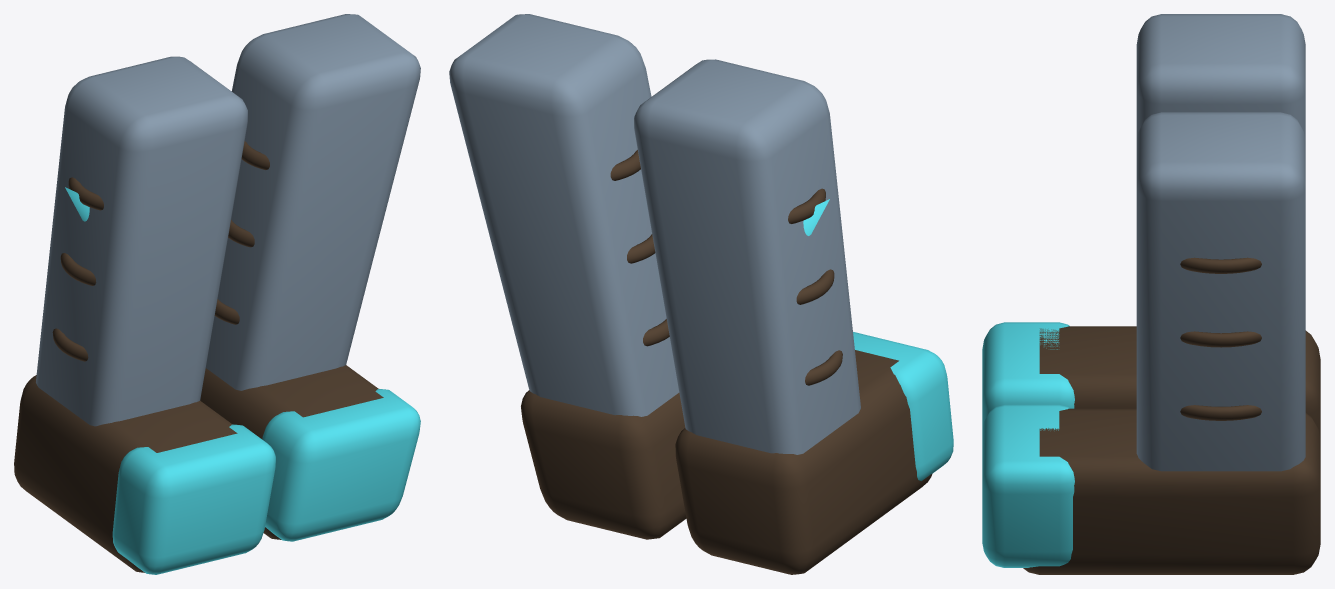
Rendered from boots_v4.glb.
3 renders of one model, left to right at view 1: azimuth 30°, elevation 25°; view 2: azimuth 150°, elevation 25°; view 3: azimuth 270°, elevation 25°, orthographic. The views are drawn at different scales.
Visible parts, largest first — view 1: BOOT_ANKLE_PRIMARY, BOOT_ANKLE_PRIMARY.001, TOE_CAP_ACCENT, TOE_CAP_ACCENT.001, BOOT_FOOT_SECONDARY, BOOT_FOOT_SECONDARY.001, BOOT_STRAP_SECONDARY.001, BOOT_STRAP_SECONDARY, BOOT_STRAP_SECONDARY.002; view 2: BOOT_ANKLE_PRIMARY, BOOT_ANKLE_PRIMARY.001, BOOT_FOOT_SECONDARY, BOOT_FOOT_SECONDARY.001, TOE_CAP_ACCENT, BOOT_STRAP_SECONDARY.001, BOOT_STRAP_SECONDARY; view 3: BOOT_ANKLE_PRIMARY.001, BOOT_FOOT_SECONDARY.001, BOOT_ANKLE_PRIMARY, TOE_CAP_ACCENT.001, BOOT_FOOT_SECONDARY, TOE_CAP_ACCENT, BOOT_STRAP_SECONDARY.005, BOOT_STRAP_SECONDARY.004, BOOT_STRAP_SECONDARY.003.
Boxes of the visible parts, left/top/right/bottom form: BOOT_ANKLE_PRIMARY: left=36, top=56, right=247, bottom=426; BOOT_ANKLE_PRIMARY.001: left=205, top=14, right=420, bottom=390; TOE_CAP_ACCENT: left=112, top=424, right=275, bottom=574; TOE_CAP_ACCENT.001: left=262, top=389, right=420, bottom=541; BOOT_FOOT_SECONDARY: left=14, top=375, right=237, bottom=572; BOOT_FOOT_SECONDARY.001: left=200, top=365, right=383, bottom=539; BOOT_STRAP_SECONDARY.001: left=60, top=253, right=96, bottom=285; BOOT_STRAP_SECONDARY: left=52, top=328, right=88, bottom=361; BOOT_STRAP_SECONDARY.002: left=68, top=177, right=103, bottom=210; BOOT_ANKLE_PRIMARY: left=634, top=59, right=860, bottom=454; BOOT_ANKLE_PRIMARY.001: left=449, top=14, right=679, bottom=416; BOOT_FOOT_SECONDARY: left=675, top=350, right=932, bottom=574; BOOT_FOOT_SECONDARY.001: left=521, top=390, right=686, bottom=539; TOE_CAP_ACCENT: left=853, top=332, right=953, bottom=480; BOOT_STRAP_SECONDARY.001: left=796, top=269, right=834, bottom=304; BOOT_STRAP_SECONDARY: left=805, top=350, right=842, bottom=385; BOOT_ANKLE_PRIMARY.001: left=1136, top=112, right=1305, bottom=471; BOOT_FOOT_SECONDARY.001: left=1023, top=408, right=1320, bottom=574; BOOT_ANKLE_PRIMARY: left=1136, top=14, right=1305, bottom=140; TOE_CAP_ACCENT.001: left=982, top=404, right=1074, bottom=567; BOOT_FOOT_SECONDARY: left=1039, top=326, right=1320, bottom=439; TOE_CAP_ACCENT: left=982, top=322, right=1074, bottom=429; BOOT_STRAP_SECONDARY.005: left=1180, top=257, right=1261, bottom=273; BOOT_STRAP_SECONDARY.004: left=1180, top=331, right=1261, bottom=347; BOOT_STRAP_SECONDARY.003: left=1180, top=405, right=1261, bottom=420.
Size of the model in its own units: 1.61 by 1.79 by 1.17.
